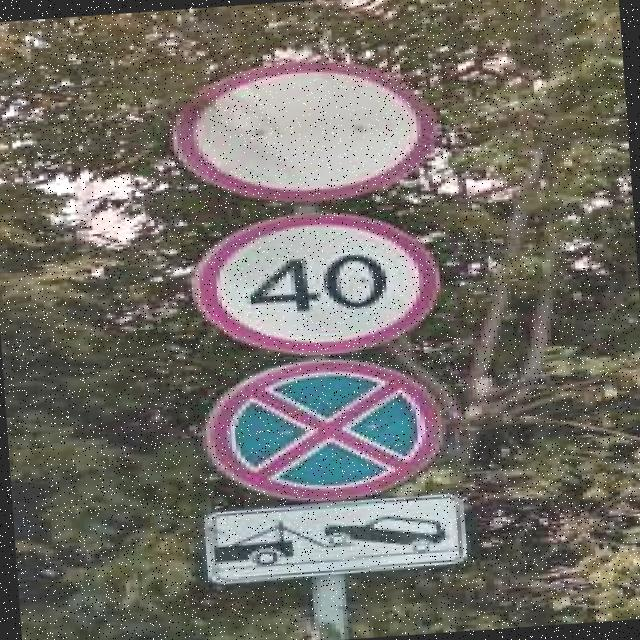Ograniczenie predkosci do 40: (182, 200, 444, 365)
